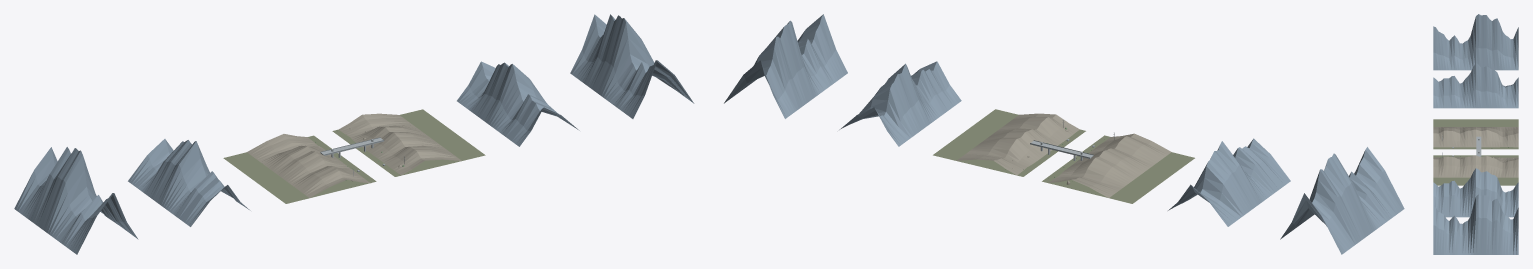
Rendered from rock_cut.glb.
3 views of the same model, side by side, from view 1: azimuth 30°, elevation 25°; view 2: azimuth 150°, elevation 25°; view 3: azimuth 270°, elevation 25° (orthographic). The views are drawn at different scales.
Parts seen in each view (by area): view 1: RidgeHorizon, RidgeFar, RidgeNear, Terrain, Overpass; view 2: RidgeHorizon, RidgeFar, RidgeNear, Terrain, Overpass; view 3: RidgeHorizon, RidgeFar, RidgeNear, Terrain, Overpass.
Part boxes in pixels (box(x1,y1,x2,y2)): RidgeHorizon: box(14, 14, 694, 254); RidgeFar: box(128, 61, 579, 226); RidgeNear: box(247, 113, 461, 197); Terrain: box(223, 109, 485, 203); Overpass: box(320, 137, 384, 157); RidgeHorizon: box(724, 14, 1404, 254); RidgeFar: box(839, 61, 1290, 226); RidgeNear: box(956, 113, 1171, 197); Terrain: box(933, 109, 1194, 203); Overpass: box(1030, 140, 1093, 160); RidgeHorizon: box(1433, 14, 1518, 254); RidgeFar: box(1433, 63, 1518, 217); RidgeNear: box(1433, 127, 1518, 177); Terrain: box(1433, 119, 1518, 185); Overpass: box(1476, 136, 1481, 156).
Bounding box in the file's own units: 680 × 74.84 × 120.
